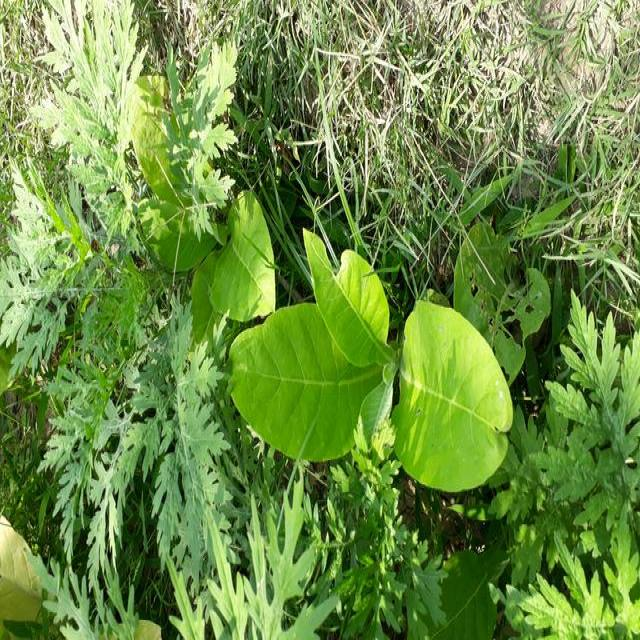crop: (230, 234, 512, 502), (178, 200, 282, 319), (0, 525, 46, 639)
